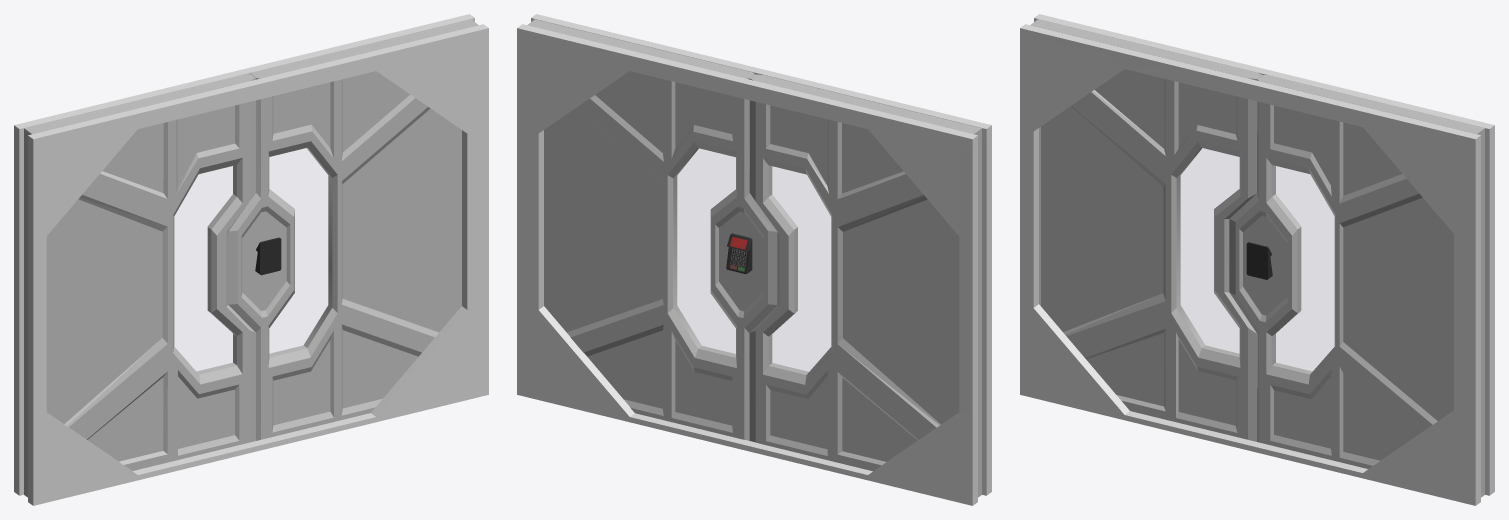
Rendered from Door D1.FBX.
3 views of the same model, side by side, from view 1: azimuth 30°, elevation 25°; view 2: azimuth 150°, elevation 25°; view 3: azimuth 330°, elevation 25° (orthographic).
Parts seen in each view (by area): view 1: Right Door, LeftDoor, Door Frame Front, RightWindow, LeftWindow, Door Frame Back, FrontControlPanel; view 2: Right Door, LeftDoor, Door Frame Back, RightWindow, LeftWindow, Door Frame Front, BackControlPanel; view 3: LeftDoor, Right Door, Door Frame Front, LeftWindow, RightWindow, Door Frame Back, FrontControlPanel.
Boxes of the visible parts, x1=… form: Right Door: x1=228, y1=19, x2=478, y2=440; LeftDoor: x1=24, y1=74, x2=255, y2=497; Door Frame Front: x1=28, y1=24, x2=488, y2=505; RightWindow: x1=270, y1=148, x2=331, y2=353; LeftWindow: x1=175, y1=166, x2=232, y2=371; Door Frame Back: x1=14, y1=14, x2=474, y2=495; FrontControlPanel: x1=255, y1=237, x2=281, y2=275; Right Door: x1=527, y1=19, x2=777, y2=440; LeftDoor: x1=749, y1=74, x2=981, y2=497; Door Frame Back: x1=517, y1=24, x2=977, y2=505; RightWindow: x1=674, y1=149, x2=735, y2=353; LeftWindow: x1=772, y1=167, x2=830, y2=371; Door Frame Front: x1=531, y1=14, x2=991, y2=495; BackControlPanel: x1=726, y1=233, x2=752, y2=273; LeftDoor: x1=1030, y1=19, x2=1262, y2=441; Right Door: x1=1229, y1=75, x2=1484, y2=497; Door Frame Front: x1=1020, y1=24, x2=1480, y2=505; LeftWindow: x1=1178, y1=148, x2=1238, y2=353; RightWindow: x1=1276, y1=166, x2=1333, y2=371; Door Frame Back: x1=1034, y1=14, x2=1494, y2=495; FrontControlPanel: x1=1246, y1=242, x2=1272, y2=279.
Size of the model in its own units: 90 by 69.22 by 6.62.
